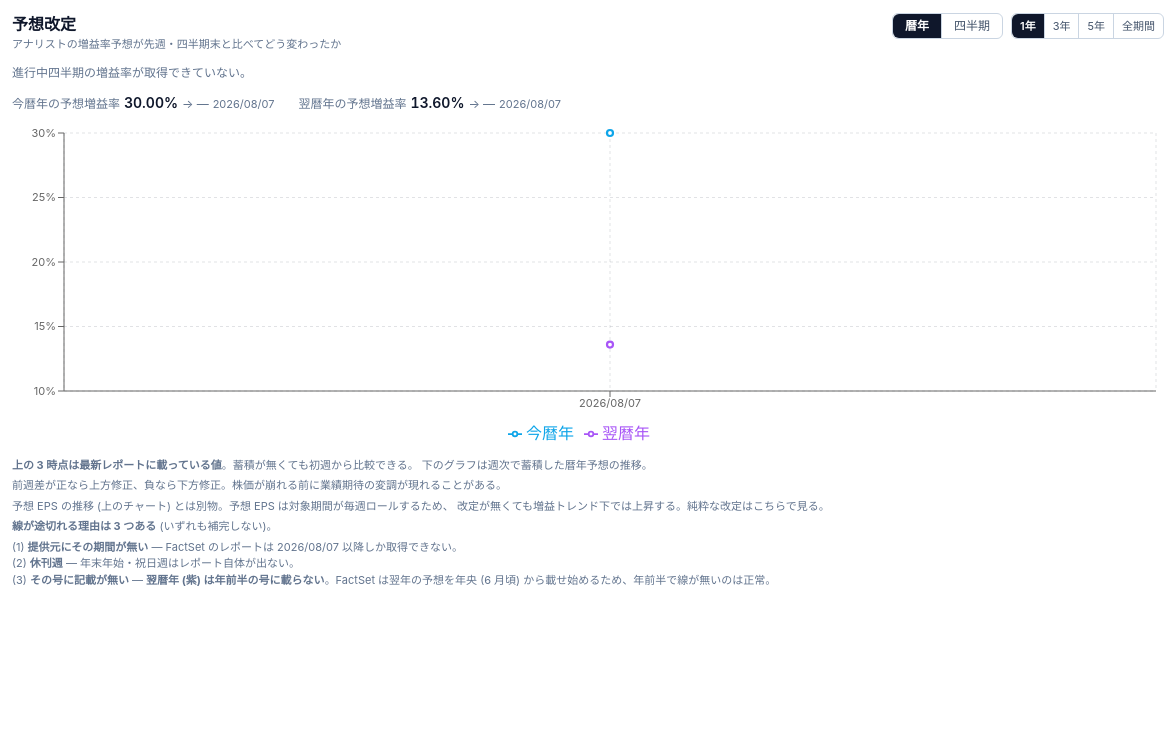
暦年と四半期の切替 (#117) › 四半期に切り替えると対象が入れ替わる旨の注記が出る
Expected: the text "四半期は対象が入れ替わる" is not shown
Click the button "四半期" at [972, 26], box [942,14,1002,38]
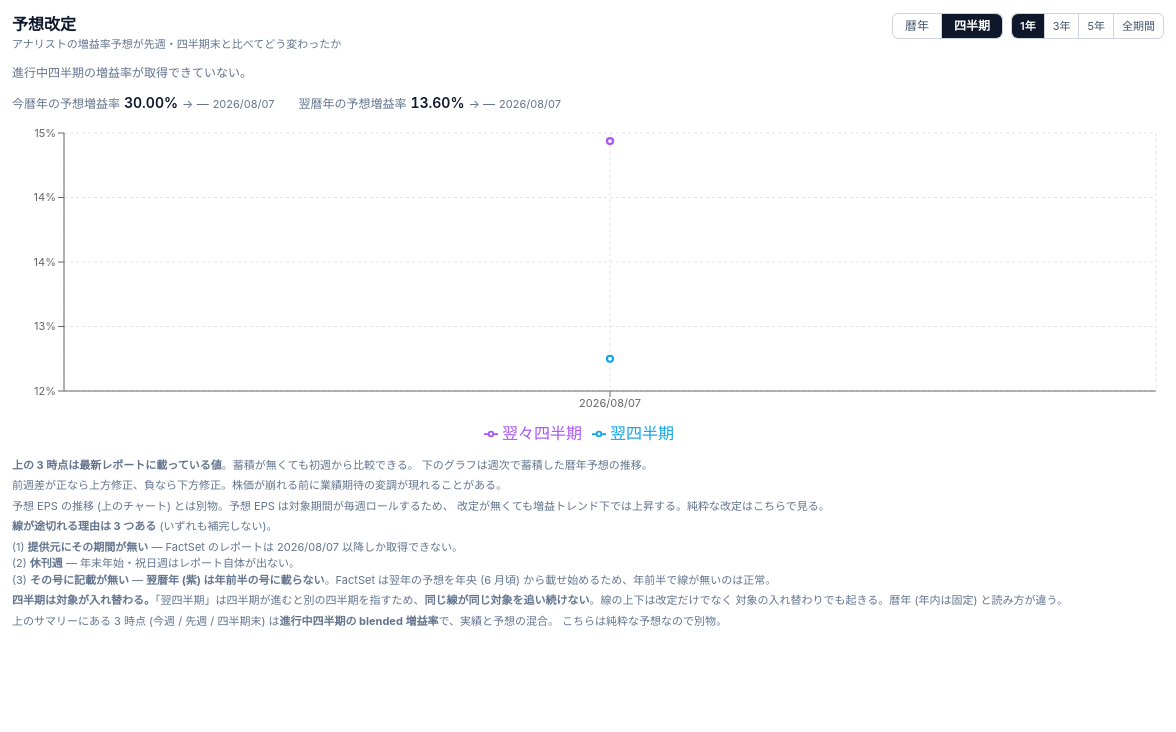
Now the text "四半期は対象が入れ替わる" is shown, box [12,593,155,607]
